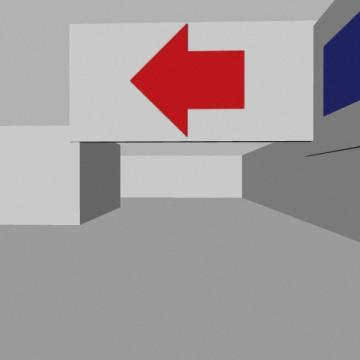red_left: (130, 24, 245, 136)
